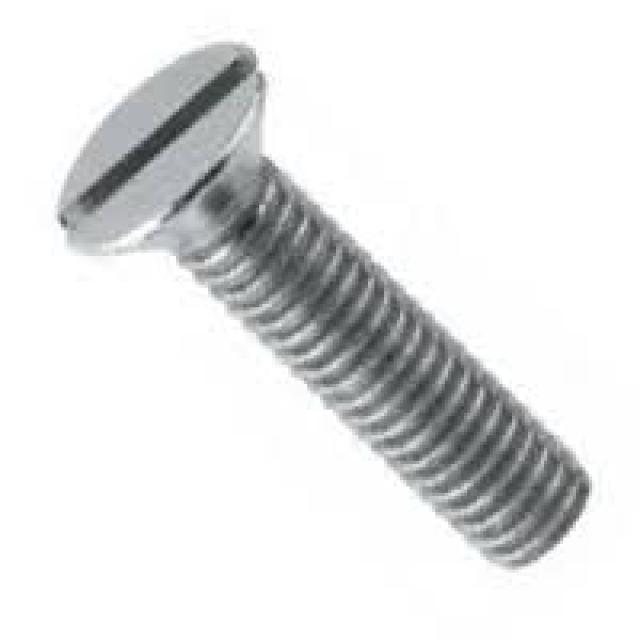Screw: (58, 42, 592, 573)
